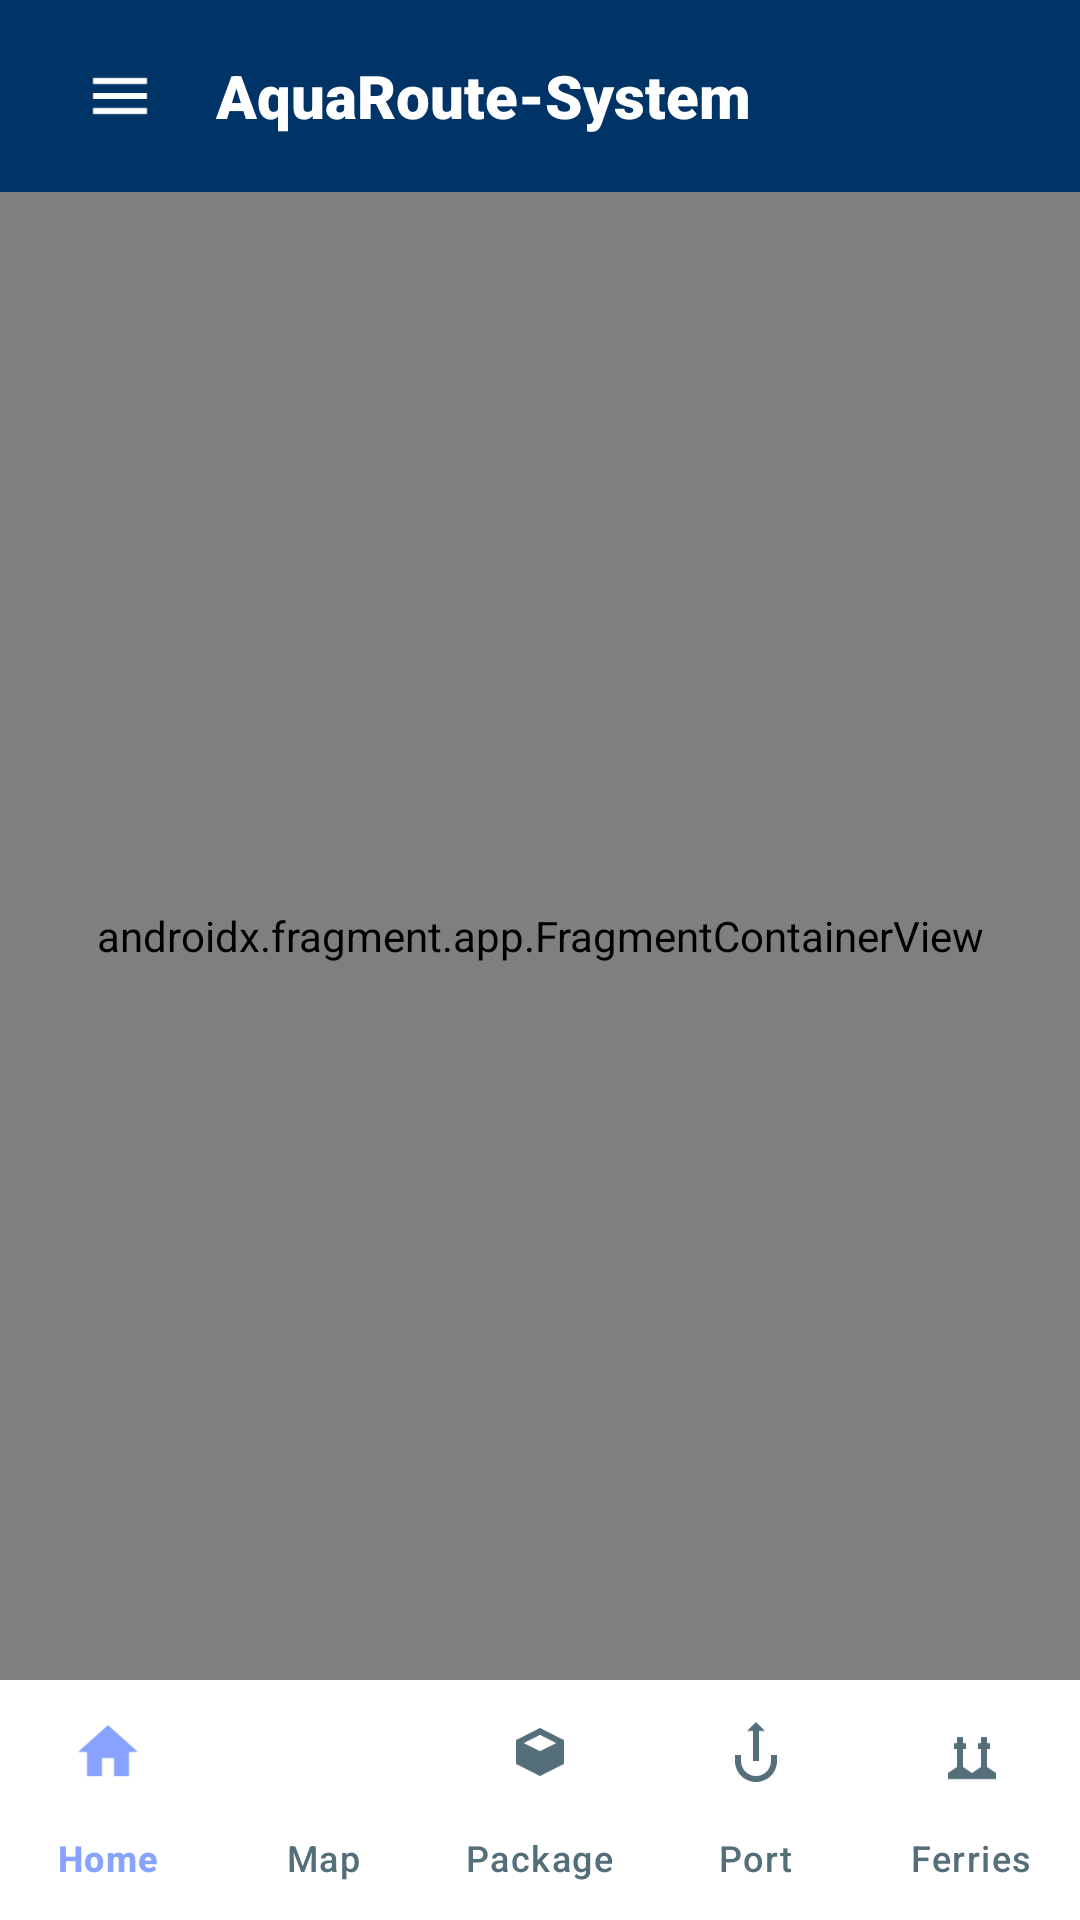

Icons on this 1080*1920 Android screen, each with the point to tap as (x=x, y=y):
menu: (x=120, y=96)
